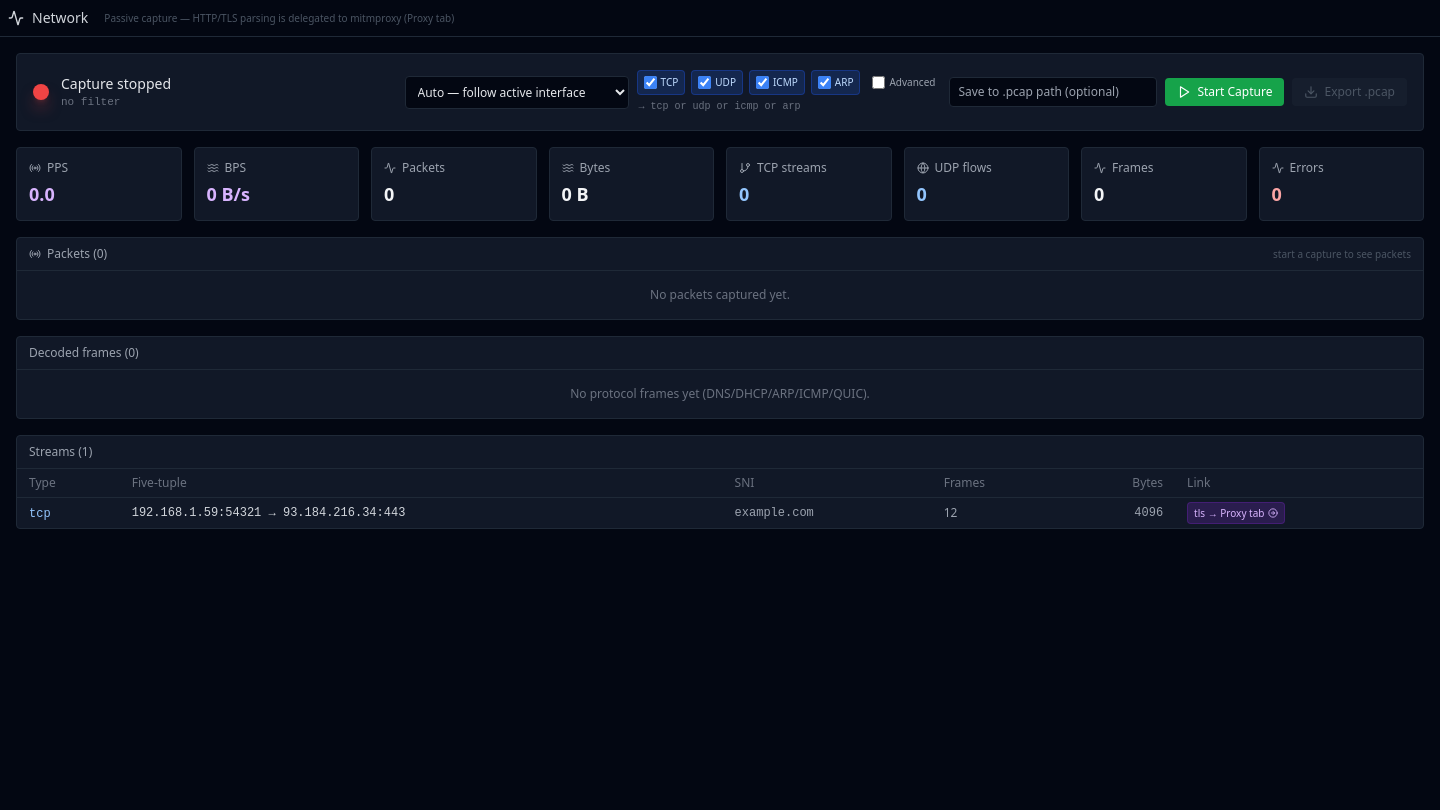
Test: Network — MITM stream integration (Proxy link + stream detail) › double-clicking a stream row opens the frame-by-frame conversation
Double-click the text "example.com" at (175, 513), box [17,498,1423,528]
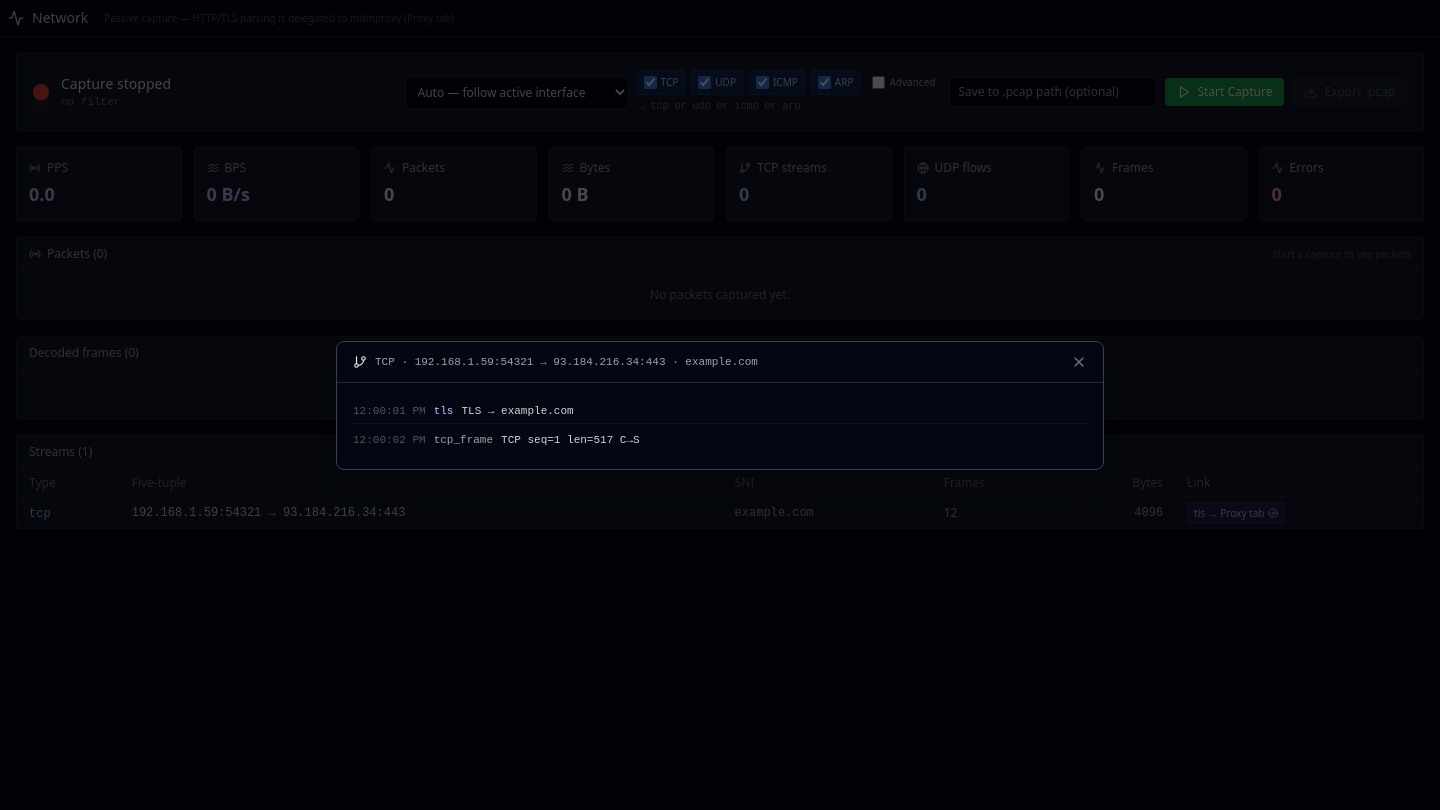
Check: the text "TCP · 192.168.1.59:54321 → 93.184.216.34:443 · example.com" is shown, box [375,352,758,372]
Check: the text "TLS → example.com" is shown, box [461,402,574,419]
Check: the text "TCP seq=1 len=517 C→S" is shown, box [501,432,640,448]
Click the button named "Close stream detail" at (1079, 362), box [1071,354,1087,370]
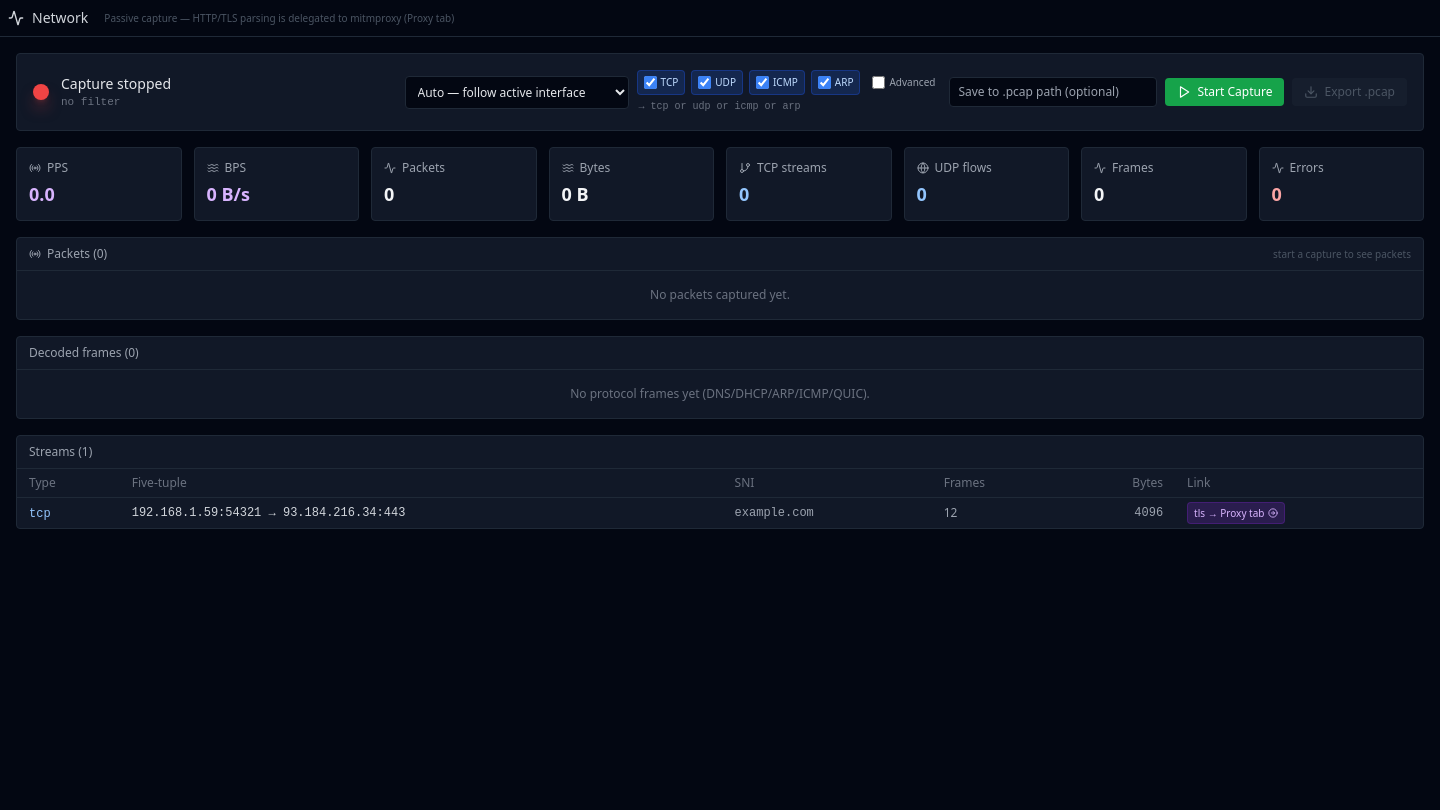
Check: the text "54321 → 93.184.216.34:443 · example.com" is gone
